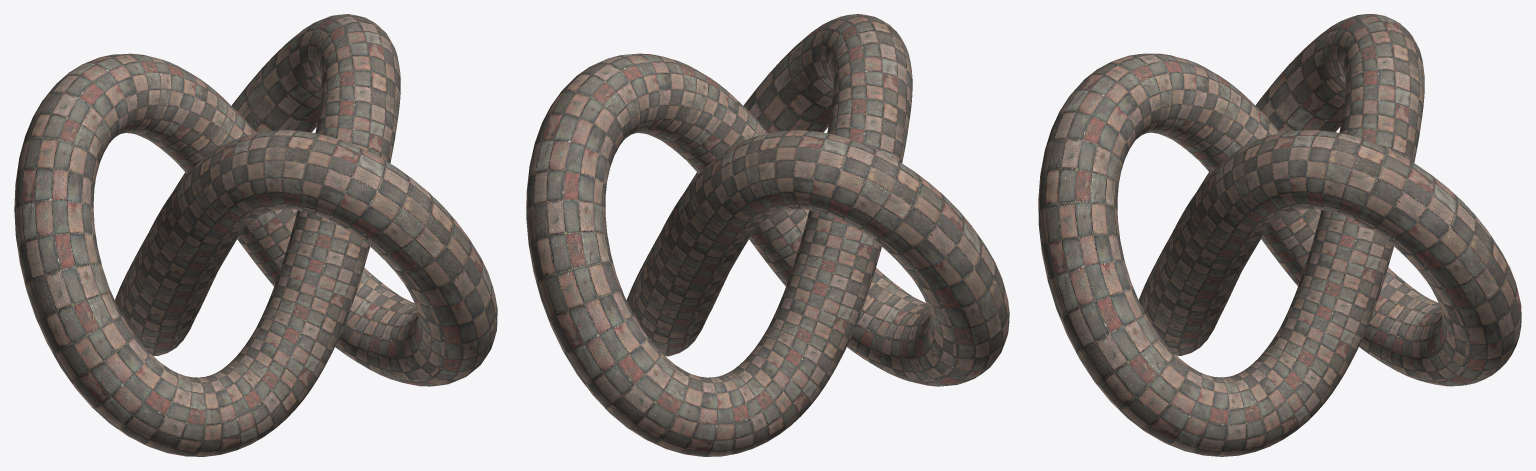
3 renders of one model, left to right at view 1: azimuth 30°, elevation 25°; view 2: azimuth 150°, elevation 25°; view 3: azimuth 270°, elevation 25°, orthographic.
Parts seen in each view (by area): view 1: Torus_Knot001; view 2: Torus_Knot001; view 3: Torus_Knot001.
Boxes of the visible parts, <box> form: Torus_Knot001: <box>14,14,497,456</box>; Torus_Knot001: <box>526,14,1009,456</box>; Torus_Knot001: <box>1038,14,1521,456</box>.
Bounding box in the file's own units: 34.31 × 26.4 × 36.43.
1 material, 1 textured.
